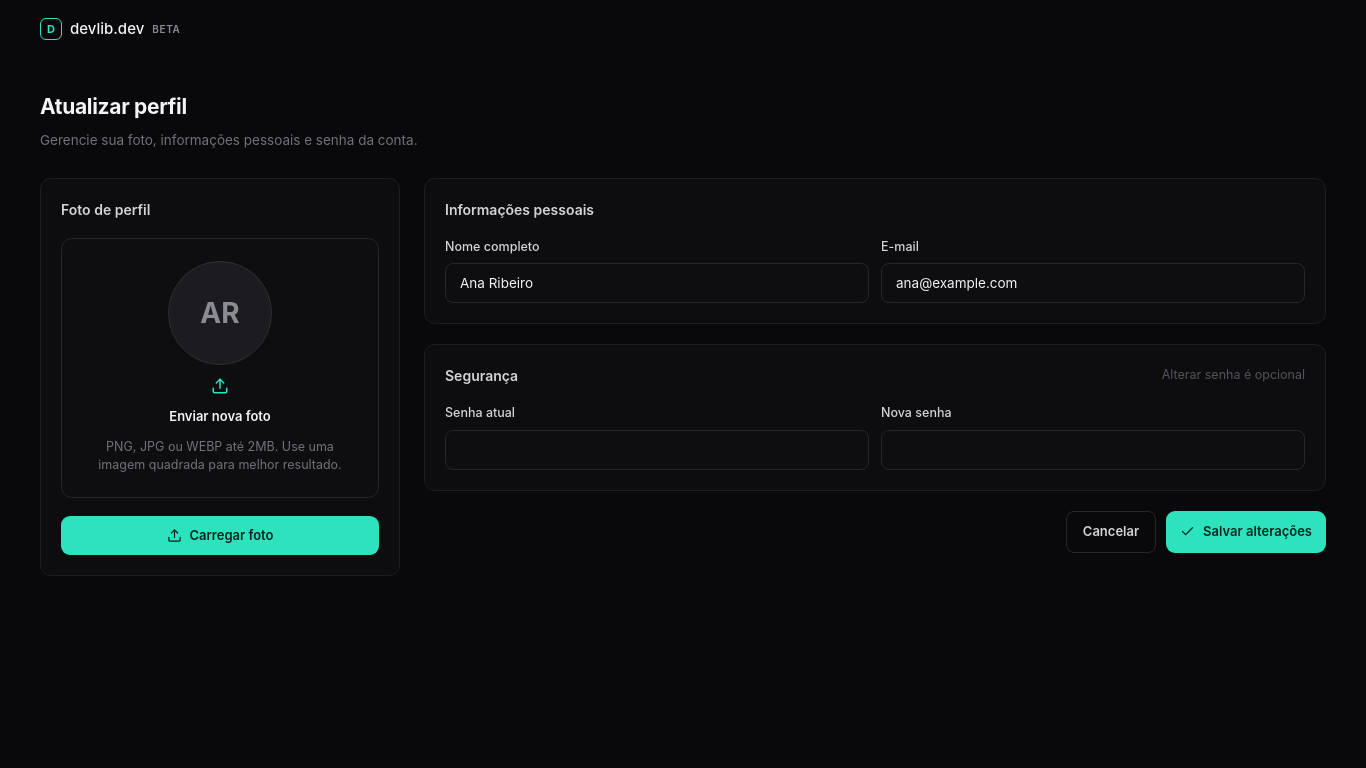
Scenario: ProfilePage › salva só o nome quando apenas o nome muda, sem exigir senha atual
The image size is (1366, 768).
Step 1. Replace the text in the field labelled "Nome completo" with "Ana R." → (657, 283), box left=445, top=263, right=869, bottom=303
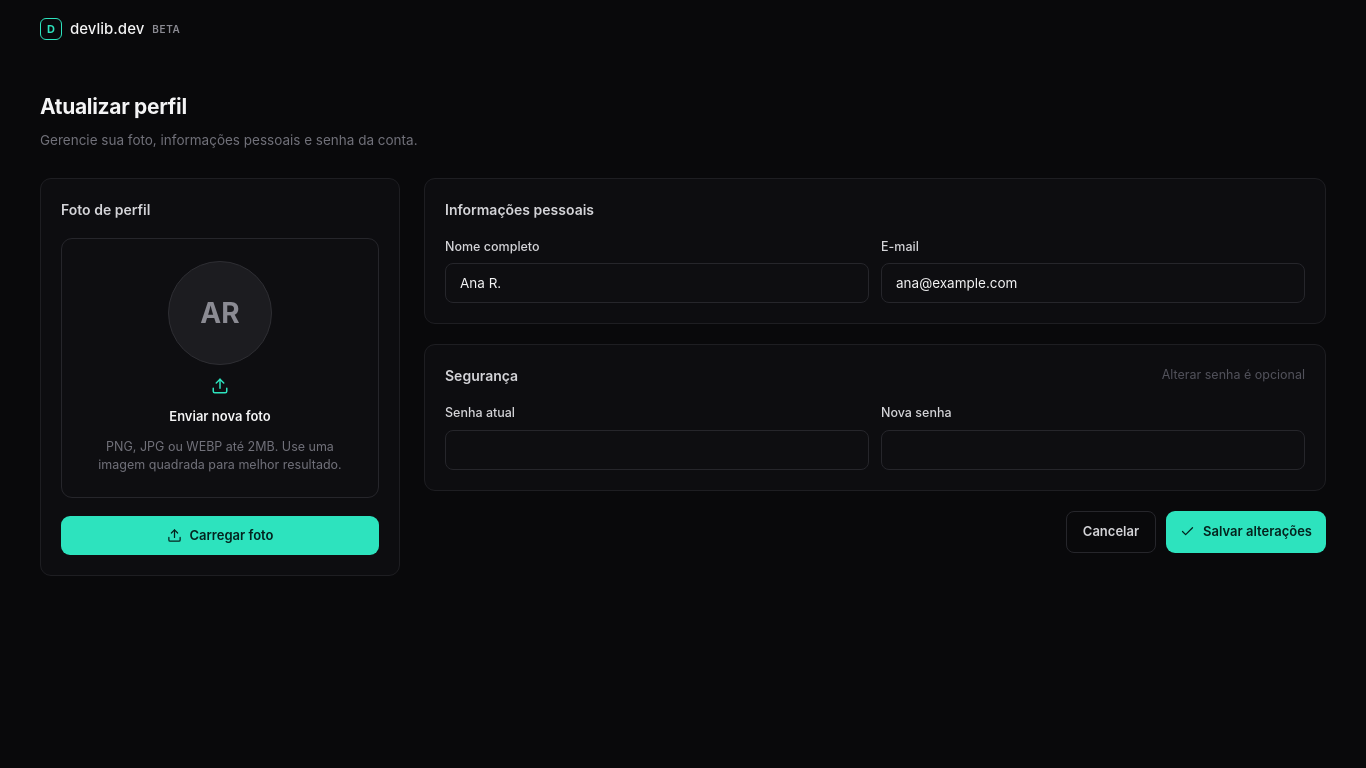
Step 2. Click the button "Salvar alterações" → (1246, 532), box left=1166, top=511, right=1326, bottom=553
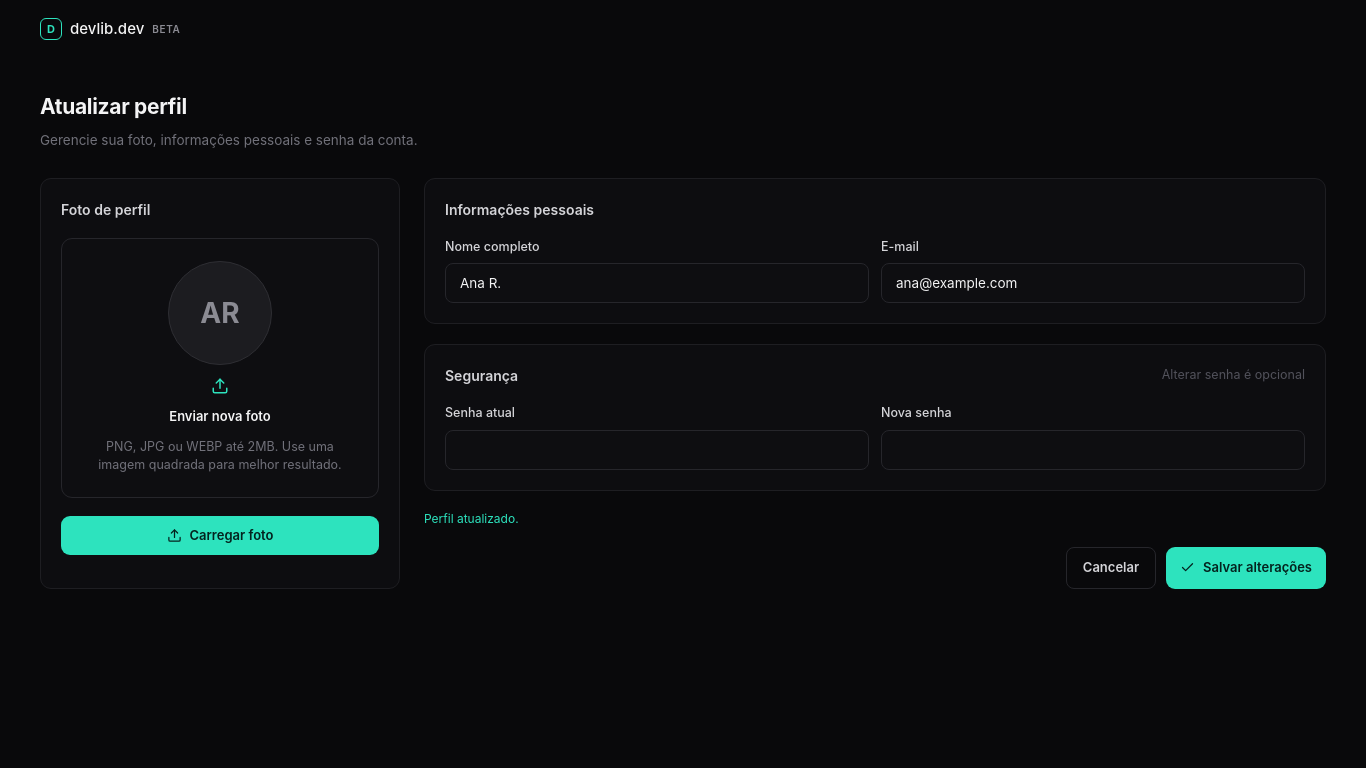
Check: the text "Perfil atualizado." is shown, box left=424, top=511, right=519, bottom=526
